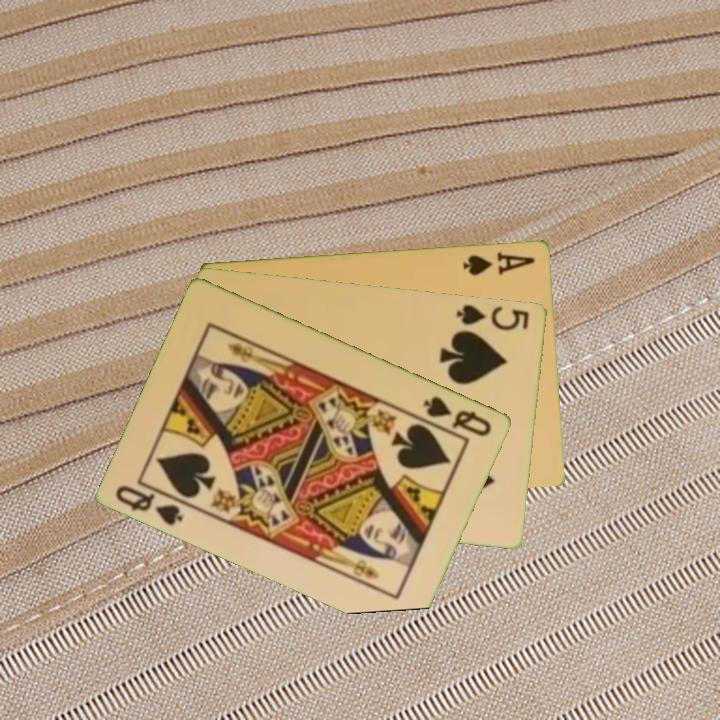5s: (453, 300, 532, 334)
As: (460, 248, 538, 278)
Qs: (420, 392, 495, 439), (112, 481, 187, 528)
